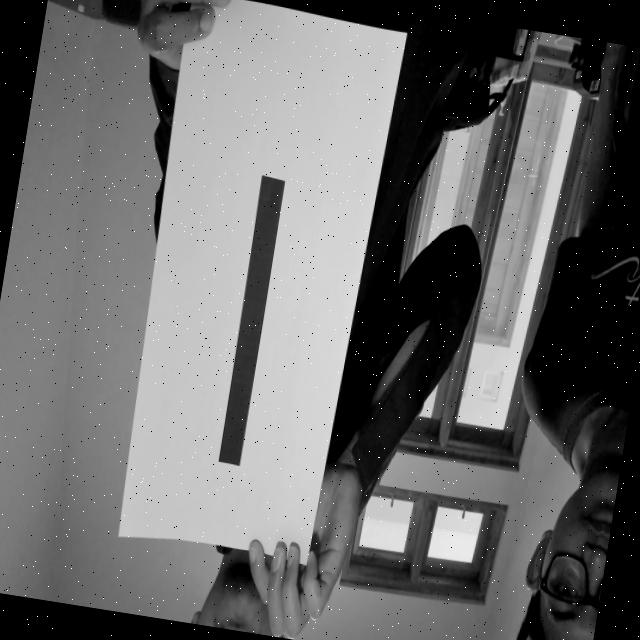i: (200, 140, 306, 483)
